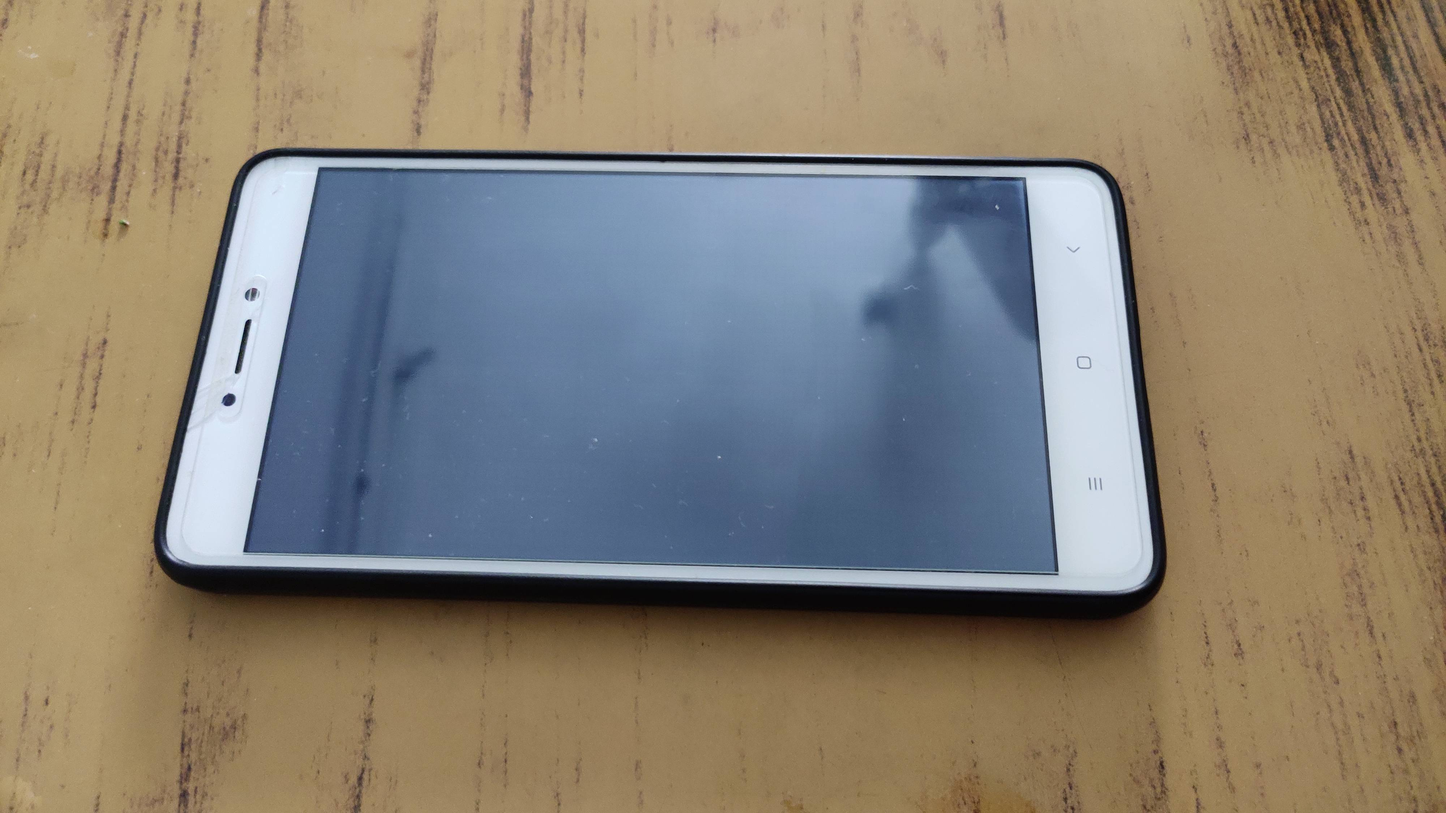Electronics: (137, 126, 1188, 648)
